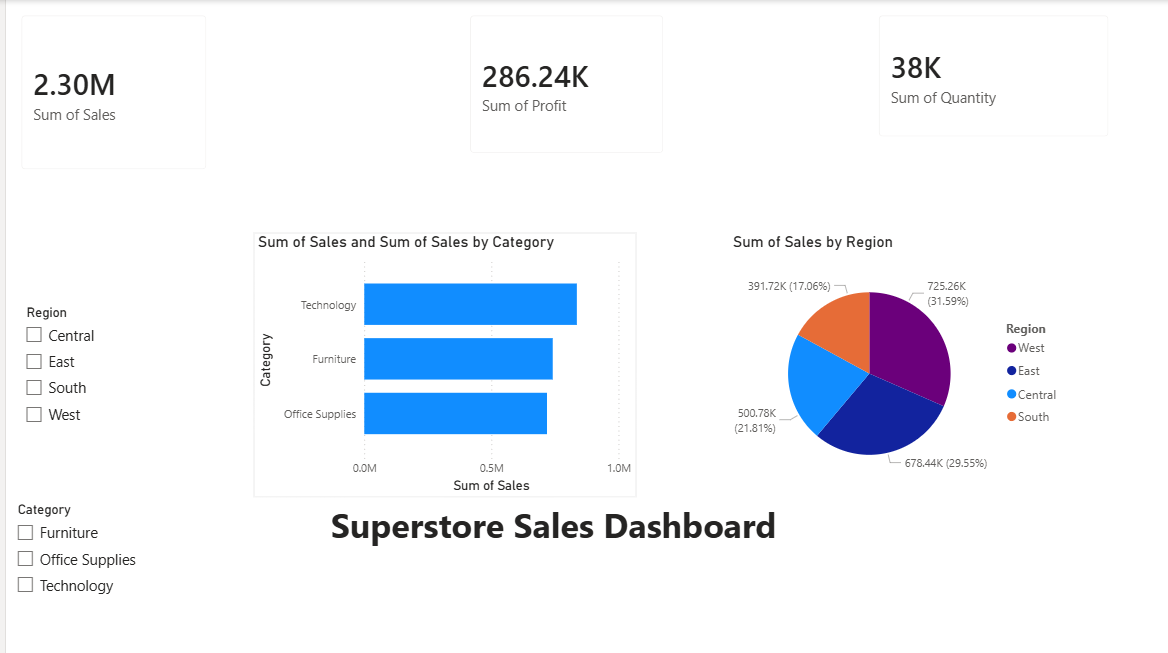

What the dashboard file says about the page in this screenshot:
{"tool":"powerbi","page":{"name":"Page 1","canvas":[1280,720],"ordinal":0},"visuals":[{"type":"cardVisual","fields":{"Data":["Sum(SampleSuperstore.Sales)"]},"box":[0,0,237.4,203.1],"z":0},{"type":"cardVisual","fields":{"Data":["Sum(SampleSuperstore.Profit)"]},"box":[492.6,0,247,185.2],"z":1000},{"type":"cardVisual","fields":{"Data":["Sum(SampleSuperstore.Quantity)"]},"box":[941.3,0,286.8,167.4],"z":2000},{"type":"barChart","fields":{"Y":["Sum(SampleSuperstore.Sales)","Sum(SampleSuperstore.Sales)"],"Category":["SampleSuperstore.Category"]},"box":[271.7,255.2,419.9,290.9],"z":3000},{"type":"pieChart","fields":{"Category":["SampleSuperstore.Region"],"Y":["Sum(SampleSuperstore.Sales)"]},"box":[793.1,255.2,374.6,290.9],"z":3001},{"type":"slicer","fields":{"Values":["SampleSuperstore.Region"]},"box":[9.6,329.3,189.4,160.5],"z":3002},{"type":"slicer","fields":{"Values":["SampleSuperstore.Category"]},"box":[0,546.1,223.7,174.3],"z":3003},{"type":"textbox","box":[271.7,546.1,658.7,60.4],"z":3004}]}

Visuals, with their boxes in screenshot pixels (x1, y1, x2, y2), scaled from the page's 1280x720 canvas onto the 1168x653 screenshot:
cardVisual - Sum(SampleSuperstore.Sales): 0, 0, 217, 184
cardVisual - Sum(SampleSuperstore.Profit): 449, 0, 675, 168
cardVisual - Sum(SampleSuperstore.Quantity): 859, 0, 1121, 152
barChart - Sum(SampleSuperstore.Sales) x Sum(SampleSuperstore.Sales): 248, 231, 631, 495
pieChart - SampleSuperstore.Region x Sum(SampleSuperstore.Sales): 724, 231, 1066, 495
slicer - SampleSuperstore.Region: 9, 299, 182, 444
slicer - SampleSuperstore.Category: 0, 495, 204, 652
textbox: 248, 495, 849, 550
